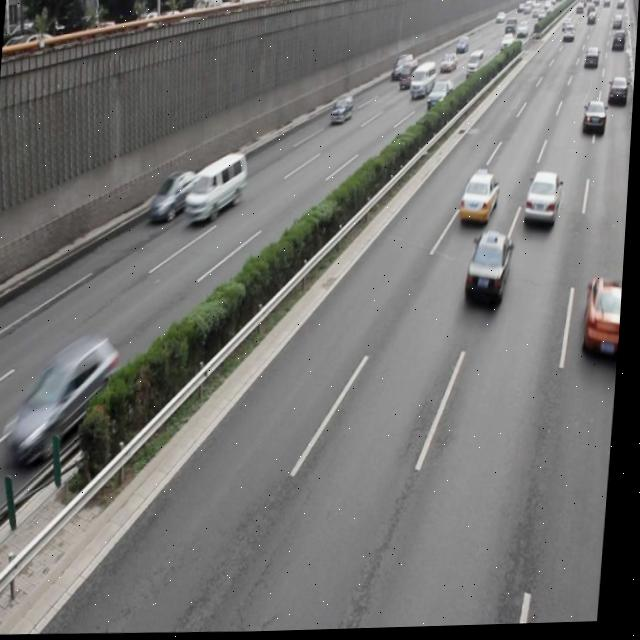car: (7, 335, 125, 464), (582, 276, 626, 364), (465, 232, 515, 306), (151, 167, 199, 221), (523, 171, 561, 230), (460, 173, 499, 230), (583, 102, 607, 136), (331, 95, 354, 124)
truck: (185, 151, 250, 223)
